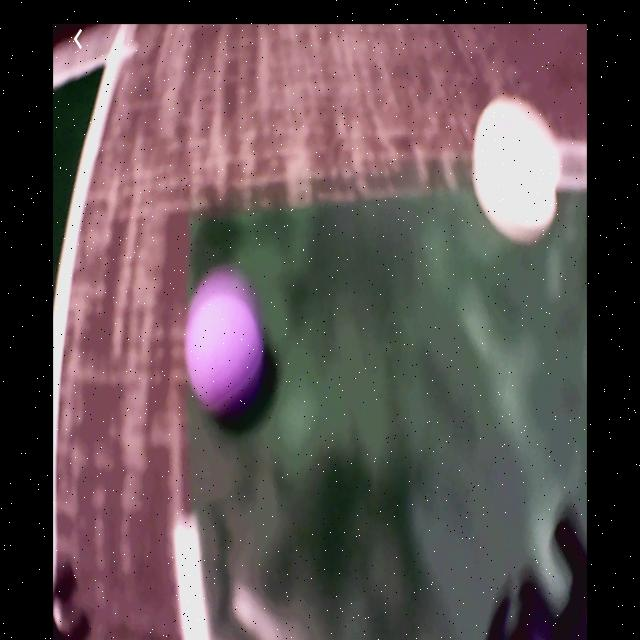ball: (182, 287, 267, 415)
